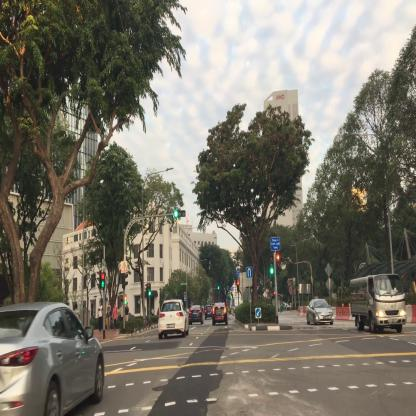green_traffic_light: (269, 255, 274, 273), (174, 210, 186, 216), (148, 284, 151, 296)
